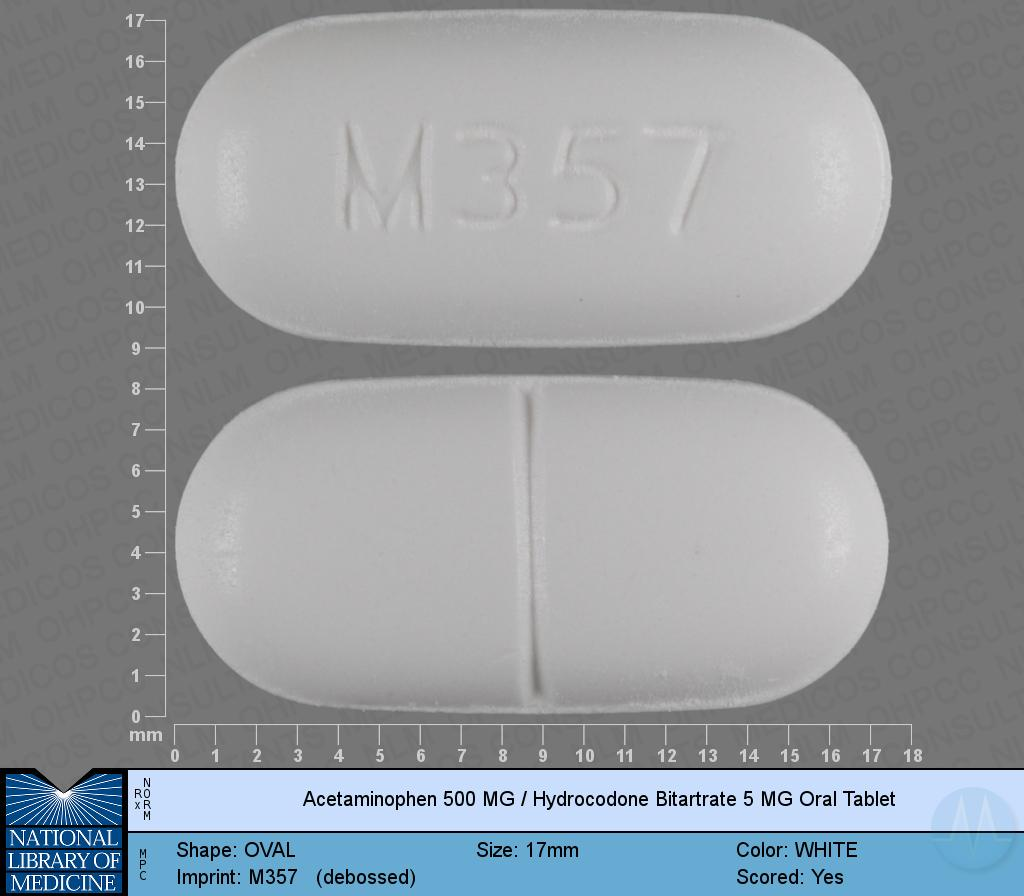Pill: (172, 365, 898, 720), (168, 5, 900, 355)
